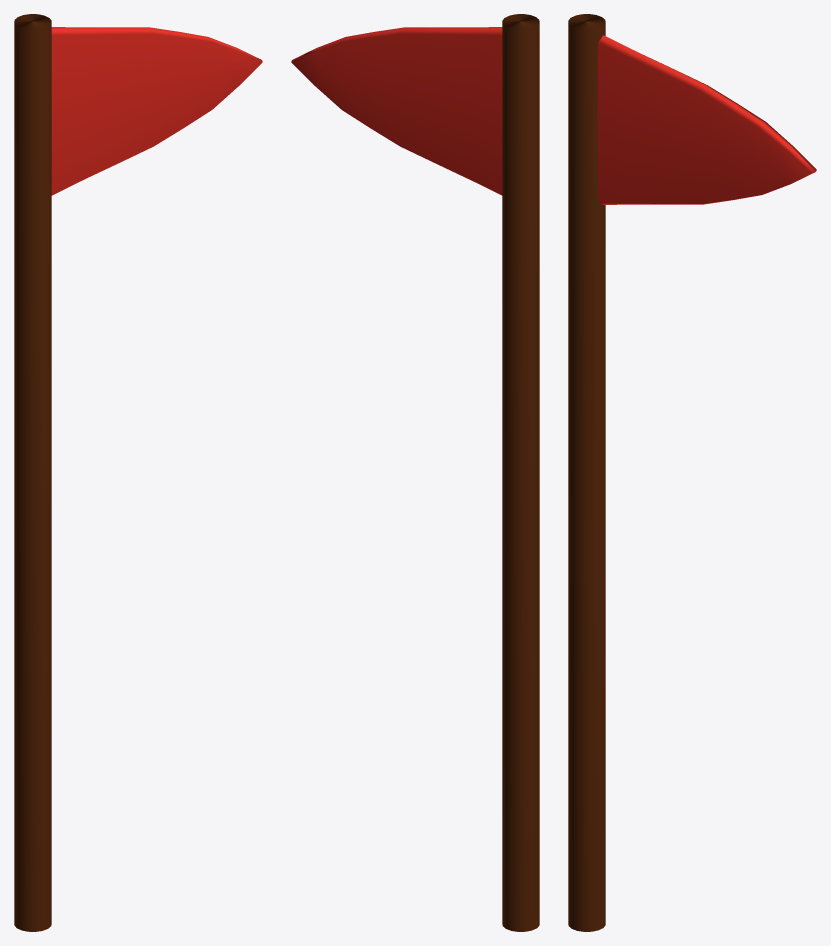
The picture shows the model from 3 angles, left to right: view 1: azimuth 30°, elevation 25°; view 2: azimuth 150°, elevation 25°; view 3: azimuth 330°, elevation 25°; orthographic projection.
Parts seen in each view (by area): view 1: Cylinder, Cube; view 2: Cylinder, Cube; view 3: Cylinder, Cube.
Part boxes in pixels (bbox=[...]): Cylinder: bbox=[14, 14, 51, 931]; Cube: bbox=[51, 27, 262, 195]; Cylinder: bbox=[502, 14, 539, 931]; Cube: bbox=[291, 27, 502, 195]; Cylinder: bbox=[568, 14, 605, 931]; Cube: bbox=[597, 35, 816, 204].
Bounding box in the file's own units: 426 × 1494 × 56.9.
